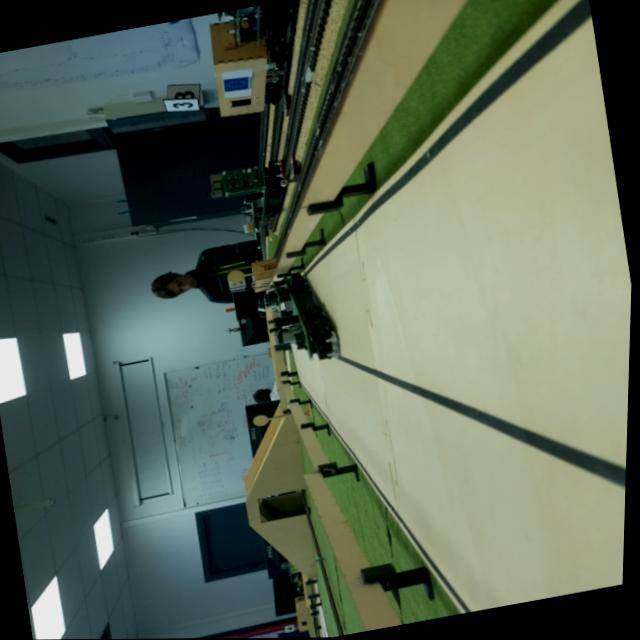obstacle_voiture: (241, 262, 347, 371)
